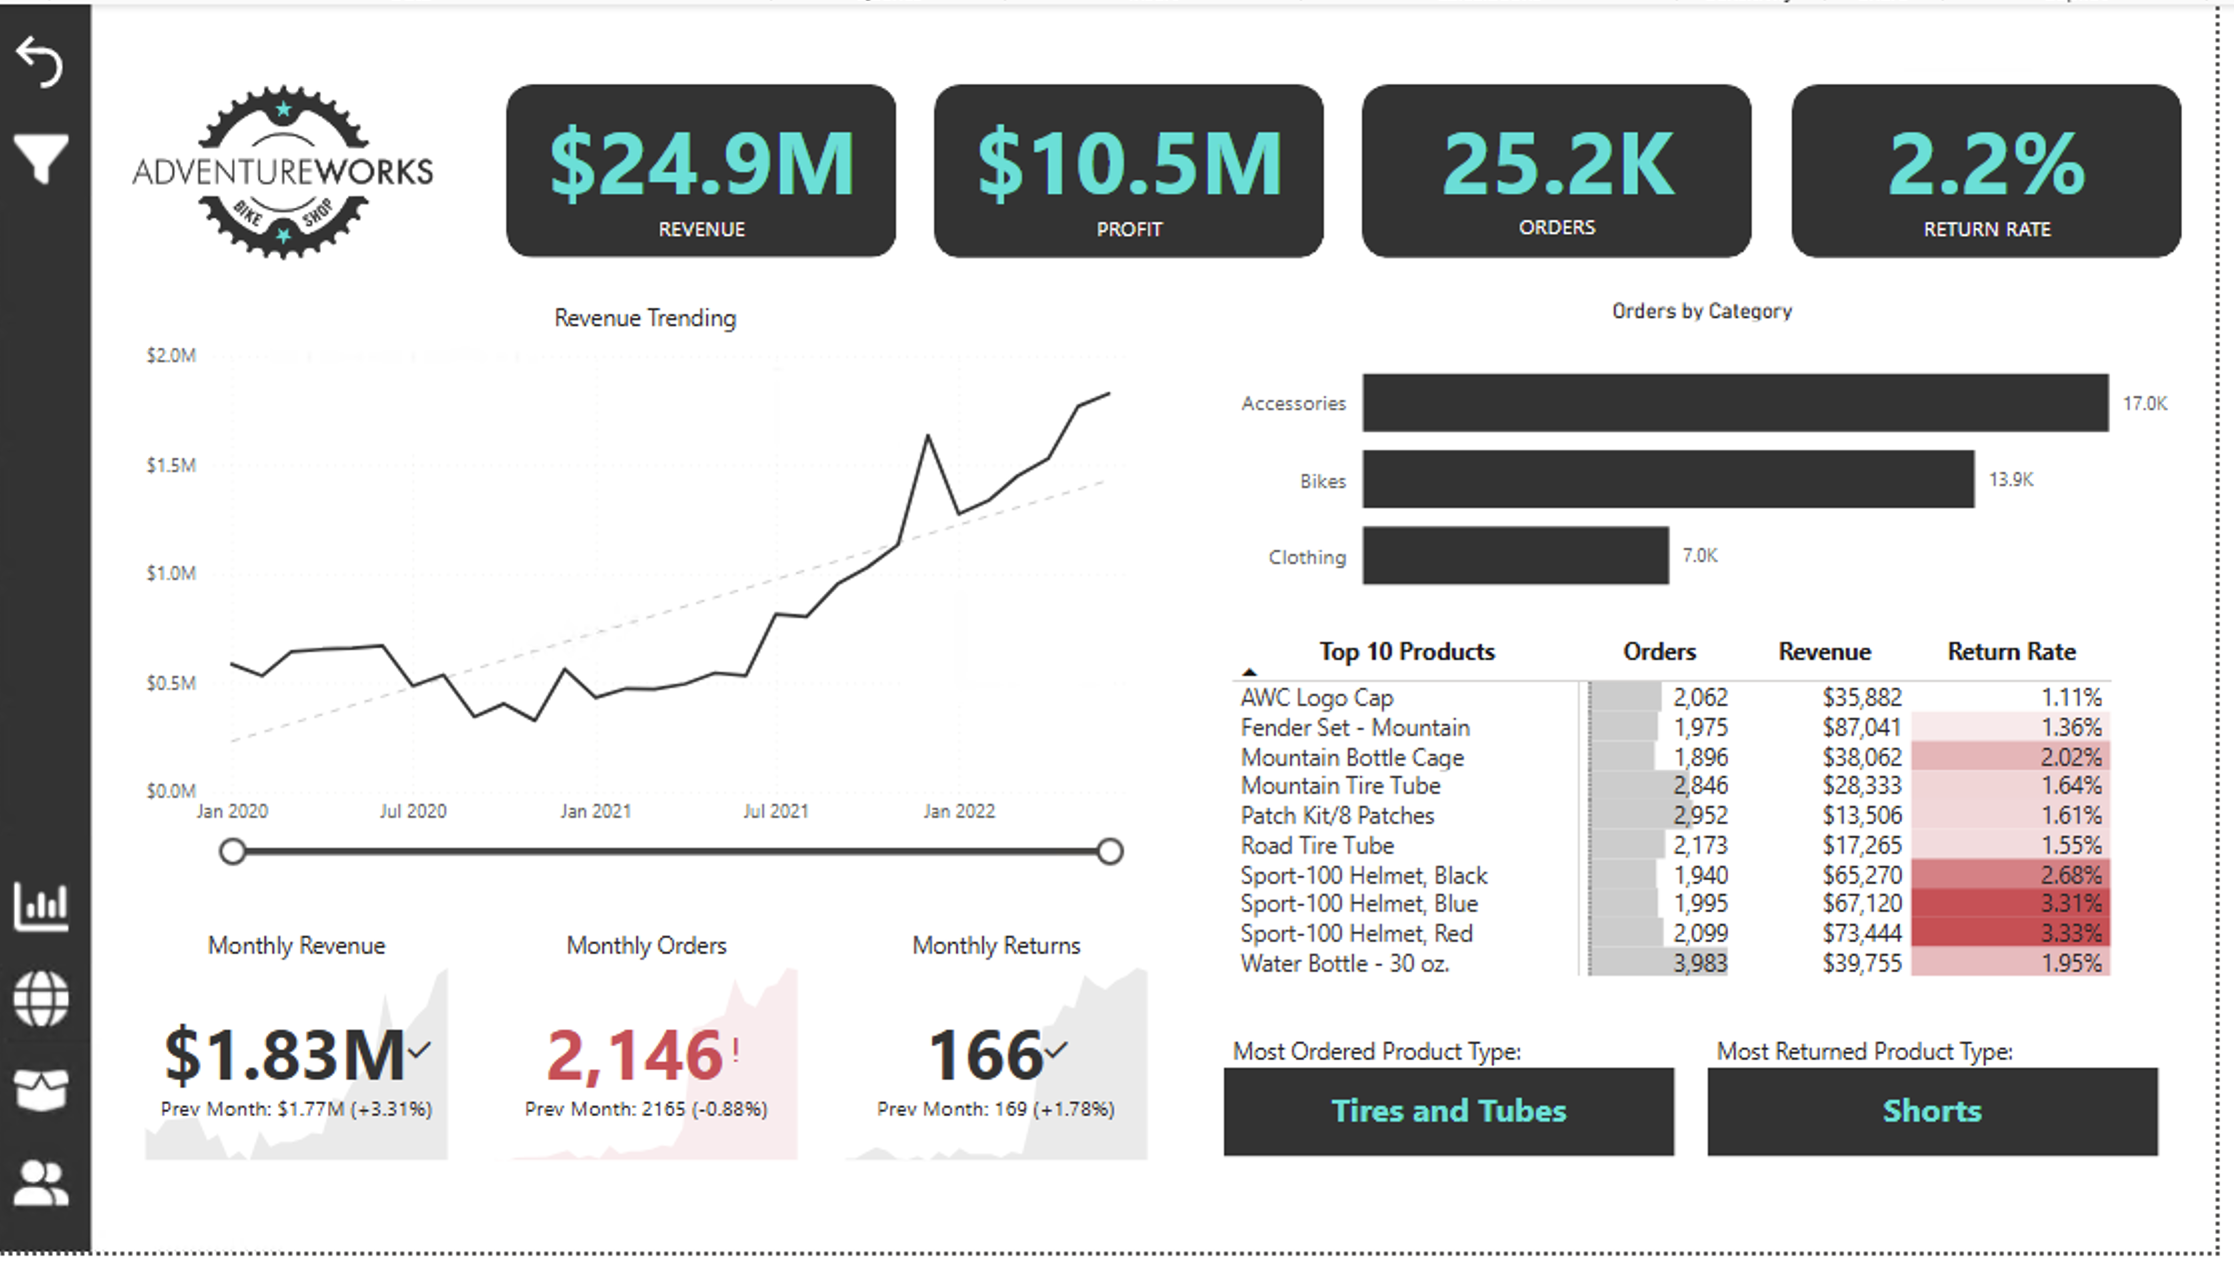

What the dashboard file says about the page in this screenshot:
{"tool":"powerbi","page":{"name":"Exec Dashboard","canvas":[1280,720],"ordinal":0},"visuals":[{"type":"card","fields":{"Values":["Measure Table.Total Revenue"]},"box":[288.1,17.8,256.2,150],"z":0,"group":"g2"},{"type":"image","title":"AW Logo","box":[45.6,26.6,256.2,141.2],"z":0},{"type":"shape","box":[303.1,47.8,225,100],"z":0,"group":"g1"},{"type":"actionButton","box":[2.5,516.7,45.6,37.8],"z":0,"group":"g3"},{"type":"card","fields":{"Values":["Measure Table.Total Profit"]},"box":[528.9,17.8,256.2,150],"z":1000,"group":"g2"},{"type":"shape","box":[543.9,47.8,225,100],"z":1000,"group":"g1"},{"type":"actionButton","box":[3.3,563.4,45.6,37.8],"z":1000,"group":"g3"},{"type":"card","fields":{"Values":["Measure Table.Total Orders"]},"box":[769.8,17.8,256.2,150],"z":2000,"group":"g2"},{"type":"group","id":"g1","title":"KPI Backgrounds","box":[303.1,47.8,947.5,100],"z":2000},{"type":"shape","box":[784.8,47.8,225,100],"z":2000,"group":"g1"},{"type":"actionButton","box":[3.3,611.1,45.6,37.8],"z":2000,"group":"g3"},{"type":"shape","title":"Left Nav Background","box":[0,0,45,720],"z":3000},{"type":"card","fields":{"Values":["Measure Table.Return Rate"]},"box":[1010.6,17.8,256.2,150],"z":3000,"group":"g2"},{"type":"shape","box":[1025.6,47.8,225,100],"z":3000,"group":"g1"},{"type":"actionButton","box":[3.3,657.8,45.6,37.8],"z":3000,"group":"g3"},{"type":"group","id":"g2","title":"KPI Values","box":[288.1,17.8,978.8,150],"z":4000},{"type":"lineChart","title":"Revenue Trending","fields":{"Y":["Measure Table.Total Revenue"],"Category":["Calendar Lookup.Start of Month"]},"box":[78.9,177.7,633.8,342.5],"z":5000},{"type":"kpi","title":"Monthly Revenue","fields":{"Indicator":["Measure Table.Total Revenue"],"TrendLine":["Calendar Lookup.Start of Month"],"Goal":["Measure Table.Previous Month Revenue"]},"box":[126.2,555,175,133.8],"z":6000},{"type":"kpi","title":"Monthly Orders","fields":{"TrendLine":["Calendar Lookup.Start of Month"],"Indicator":["Measure Table.Total Orders"],"Goal":["Measure Table.Previous Month Orders"]},"box":[321.2,555,175,133.8],"z":7000},{"type":"kpi","title":"Monthly Returns","fields":{"TrendLine":["Calendar Lookup.Start of Month"],"Indicator":["Measure Table.Total Returns"],"Goal":["Measure Table.Previous Month Returns"]},"box":[516.2,555,175,133.8],"z":8000},{"type":"clusteredBarChart","title":"Orders by Category","fields":{"Category":["Product Categories Lookup.CategoryName"],"Y":["Measure Table.Total Orders"]},"box":[738.9,177.7,511.2,171.2],"z":9000},{"type":"pivotTable","fields":{"Rows":["Product Lookup.ProductName"],"Values":["Measure Table.Total Orders","Measure Table.Total Revenue","Measure Table.Return Rate"]},"box":[753.7,369.2,511.1,228.4],"z":10000},{"type":"card","fields":{"Values":["Min(Product Subcategories Lookup.SubcategoryName)"]},"box":[753.7,634.2,241.4,48.5],"z":11000},{"type":"textbox","box":[751.3,604.6,198.8,35.5],"z":12000},{"type":"card","fields":{"Values":["Min(Product Subcategories Lookup.SubcategoryName)"]},"box":[1004.1,634.2,241.4,48.5],"z":13000},{"type":"textbox","box":[1002.2,605.2,198.8,35.5],"z":14000},{"type":"actionButton","box":[3.3,5.6,35.6,35.6],"z":15000},{"type":"group","id":"g3","title":"Navigation Buttons","box":[2.5,516.7,46.4,178.9],"z":16000},{"type":"actionButton","box":[3.4,53.1,38.4,39.6],"z":17000}]}

Visuals, with their boxes on the page's 1280x720 design canvas (x1, y1, x2, y2). These are canvas units, not pixel positions in the 2234x1266 screenshot, which may show the page scaled, cropped or inside an application window:
card - Measure Table.Total Revenue: {"left": 288, "top": 18, "right": 544, "bottom": 168}
"AW Logo" image: {"left": 46, "top": 27, "right": 302, "bottom": 168}
shape: {"left": 303, "top": 48, "right": 528, "bottom": 148}
actionButton: {"left": 2, "top": 517, "right": 48, "bottom": 554}
card - Measure Table.Total Profit: {"left": 529, "top": 18, "right": 785, "bottom": 168}
shape: {"left": 544, "top": 48, "right": 769, "bottom": 148}
actionButton: {"left": 3, "top": 563, "right": 49, "bottom": 601}
card - Measure Table.Total Orders: {"left": 770, "top": 18, "right": 1026, "bottom": 168}
"KPI Backgrounds" group: {"left": 303, "top": 48, "right": 1251, "bottom": 148}
shape: {"left": 785, "top": 48, "right": 1010, "bottom": 148}
actionButton: {"left": 3, "top": 611, "right": 49, "bottom": 649}
"Left Nav Background" shape: {"left": 0, "top": 0, "right": 45, "bottom": 720}
card - Measure Table.Return Rate: {"left": 1011, "top": 18, "right": 1267, "bottom": 168}
shape: {"left": 1026, "top": 48, "right": 1251, "bottom": 148}
actionButton: {"left": 3, "top": 658, "right": 49, "bottom": 696}
"KPI Values" group: {"left": 288, "top": 18, "right": 1267, "bottom": 168}
"Revenue Trending" lineChart: {"left": 79, "top": 178, "right": 713, "bottom": 520}
"Monthly Revenue" kpi: {"left": 126, "top": 555, "right": 301, "bottom": 689}
"Monthly Orders" kpi: {"left": 321, "top": 555, "right": 496, "bottom": 689}
"Monthly Returns" kpi: {"left": 516, "top": 555, "right": 691, "bottom": 689}
"Orders by Category" clusteredBarChart: {"left": 739, "top": 178, "right": 1250, "bottom": 349}
pivotTable - Product Lookup.ProductName x Measure Table.Total Orders: {"left": 754, "top": 369, "right": 1265, "bottom": 598}
card - Min(Product Subcategories Lookup.SubcategoryName): {"left": 754, "top": 634, "right": 995, "bottom": 683}
textbox: {"left": 751, "top": 605, "right": 950, "bottom": 640}
card - Min(Product Subcategories Lookup.SubcategoryName): {"left": 1004, "top": 634, "right": 1246, "bottom": 683}
textbox: {"left": 1002, "top": 605, "right": 1201, "bottom": 641}
actionButton: {"left": 3, "top": 6, "right": 39, "bottom": 41}
"Navigation Buttons" group: {"left": 2, "top": 517, "right": 49, "bottom": 696}
actionButton: {"left": 3, "top": 53, "right": 42, "bottom": 93}
